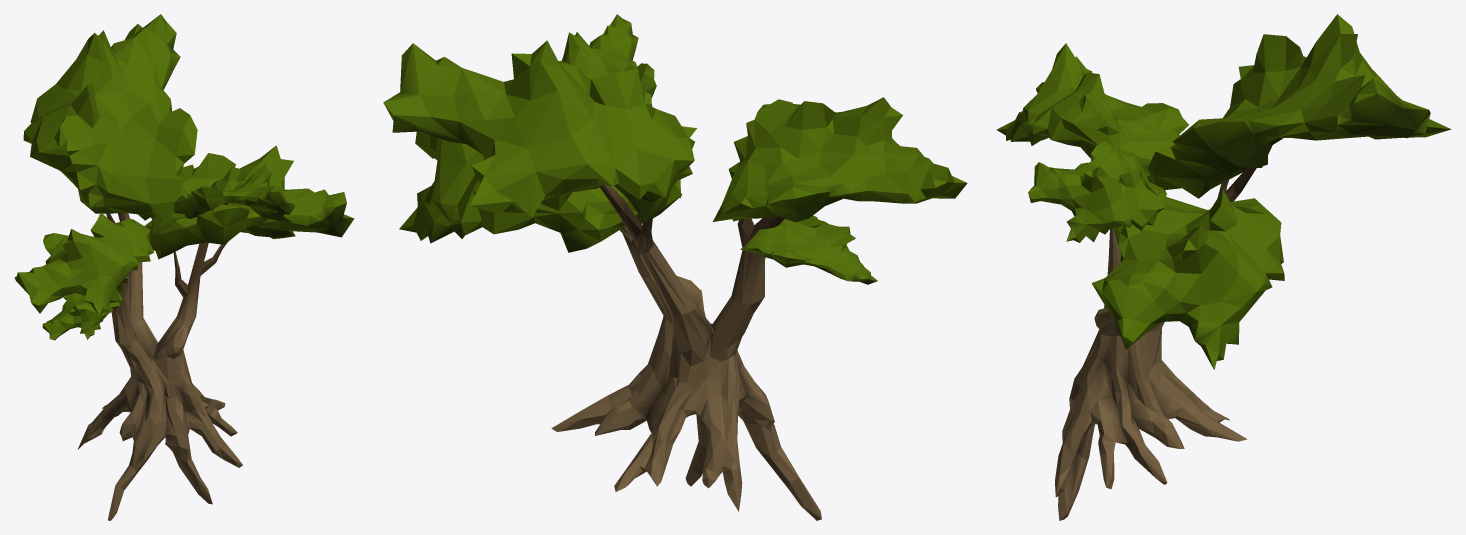
Rendered from ENV_Vegetation_JungleTree_01.fbx.
The picture shows the model from 3 angles, left to right: view 1: azimuth 30°, elevation 25°; view 2: azimuth 150°, elevation 25°; view 3: azimuth 270°, elevation 25°; orthographic projection. The views are drawn at different scales.
Parts seen in each view (by area): view 1: ENV_Vegetation_JungleTree_01; view 2: ENV_Vegetation_JungleTree_01; view 3: ENV_Vegetation_JungleTree_01.
Part boxes in pixels (x1,y1,x2,y2): ENV_Vegetation_JungleTree_01: [14, 14, 354, 520]; ENV_Vegetation_JungleTree_01: [383, 14, 967, 520]; ENV_Vegetation_JungleTree_01: [996, 14, 1451, 520].
Size of the model in its own units: 1785 by 1888 by 1554.
